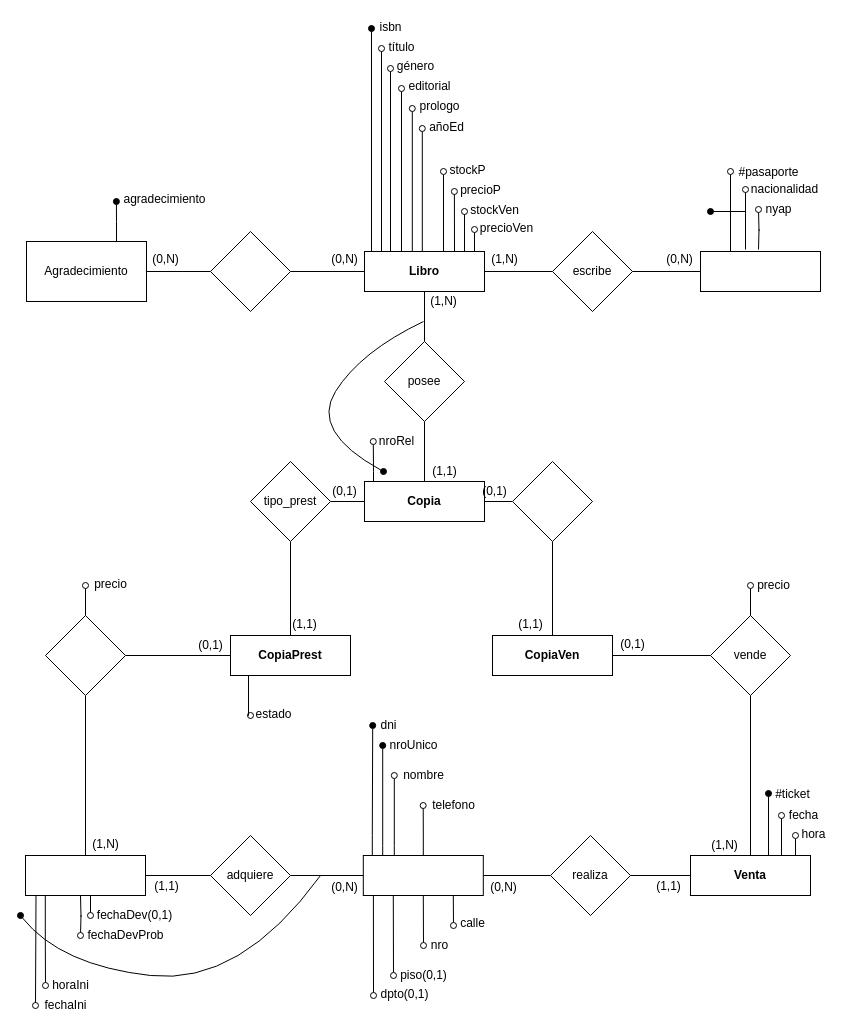
The diagram is 851 pixels wide and 1032 high, and some of its shapes have lost their labels. Here are the shapes that lost their labels. From the top down, the centre of each, then its label:
(250,271): agradece
(760,271): Autor
(552,501): tipo_ven
(85,655): presta
(85,875): Préstamo
(422,875): Cliente
